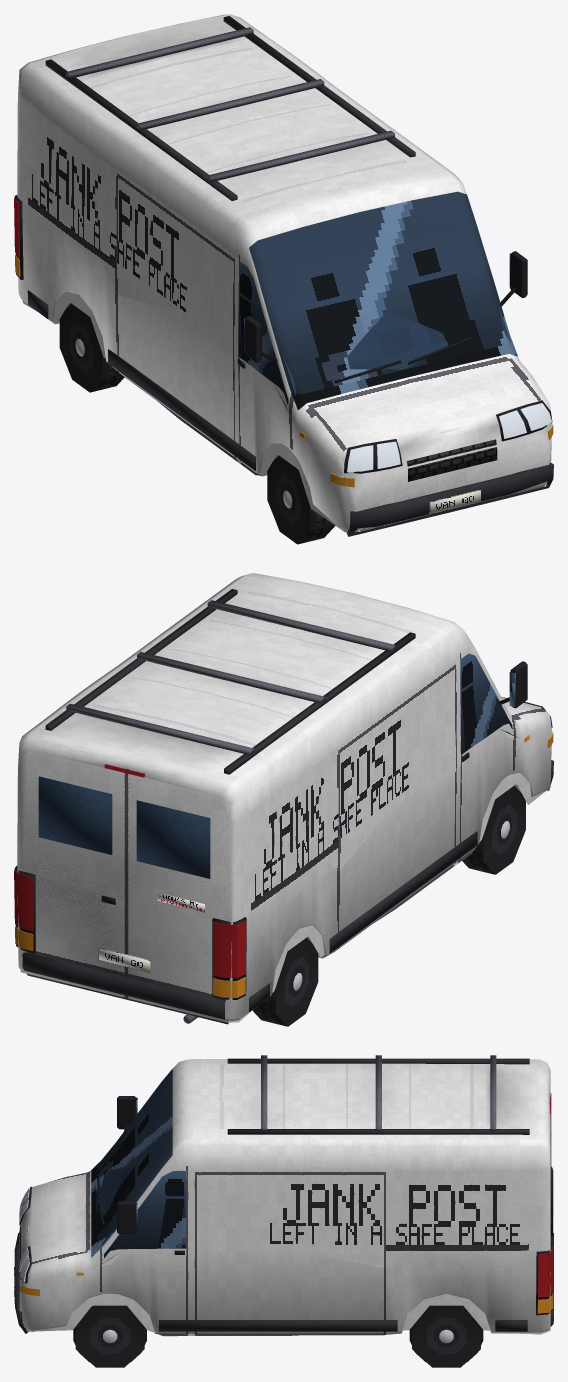
File: p_car_van.glb
The picture shows the model from 3 angles, top to bottom: view 1: azimuth 30°, elevation 25°; view 2: azimuth 150°, elevation 25°; view 3: azimuth 270°, elevation 25°; orthographic projection. The views are drawn at different scales.
Parts seen in each view (by area): view 1: shell, lod1_mesh, lamps; view 2: shell, lod1_mesh, tails, inds, wheel_rr; view 3: shell, lod1_mesh, tails, inds, lamps.
Part boxes in pixels (x1,y1,x2,y2): shell: [14, 14, 553, 536]; lod1_mesh: [21, 197, 552, 544]; lamps: [346, 403, 551, 471]; shell: [14, 573, 553, 1024]; lod1_mesh: [17, 728, 552, 1026]; tails: [14, 764, 246, 978]; inds: [15, 733, 553, 997]; wheel_rr: [255, 972, 302, 1024]; shell: [14, 1055, 553, 1335]; lod1_mesh: [19, 1145, 550, 1367]; tails: [538, 1097, 553, 1297]; inds: [20, 1217, 553, 1313]; lamps: [19, 1188, 29, 1281].
Bounding box in the file's own units: 2.46 × 2.49 × 5.19.
6 materials, 3 textured.
